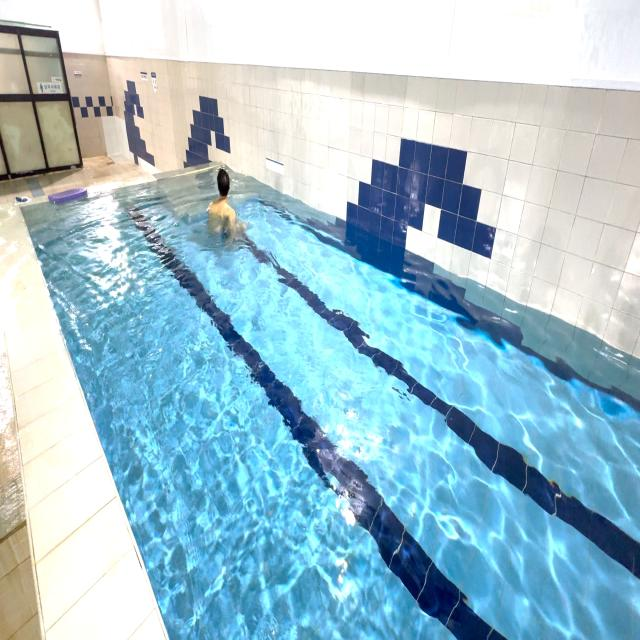Swimming: (200, 158, 248, 255)
